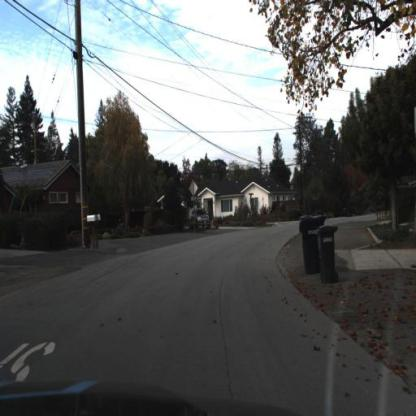car: (190, 208, 210, 229), (211, 211, 222, 232)
